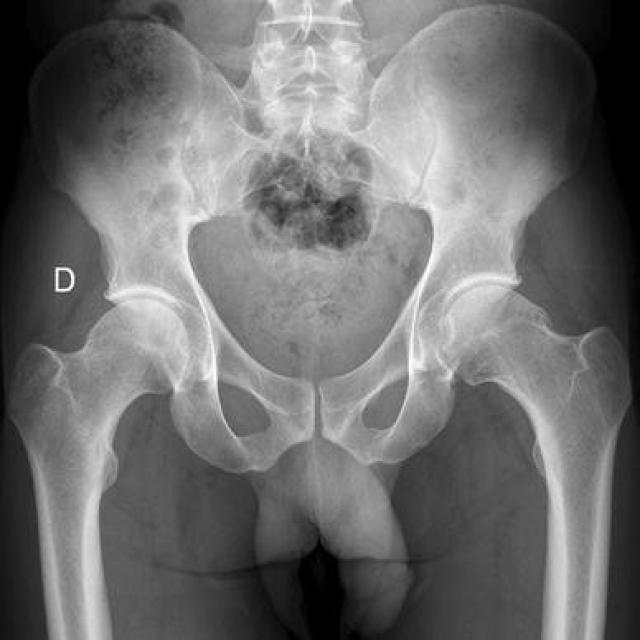normal-left: (443, 286, 634, 550)
normal-right: (6, 298, 193, 556)
